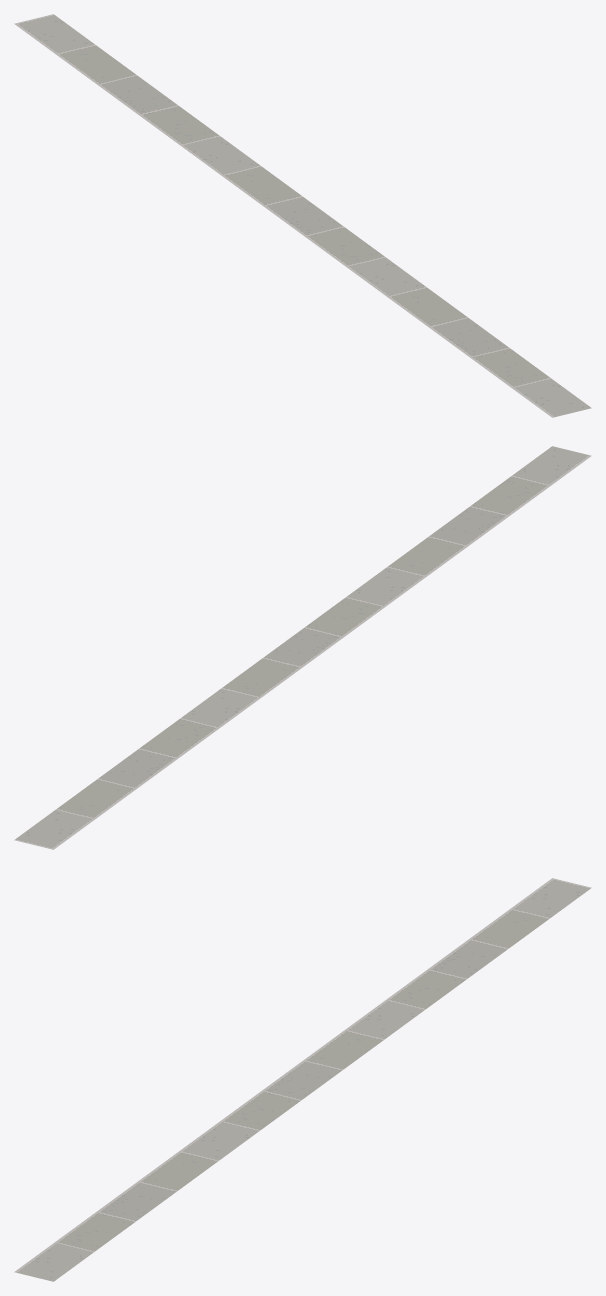
File: kd_stage_135c43_3_0_bounded_piece_0.glb
3 views of the same model, one above another, from view 1: azimuth 30°, elevation 25°; view 2: azimuth 150°, elevation 25°; view 3: azimuth 330°, elevation 25° (orthographic).
Visible parts, largest first — view 1: kd_stage_135c43_3_0_bounded_piece_0; view 2: kd_stage_135c43_3_0_bounded_piece_0; view 3: kd_stage_135c43_3_0_bounded_piece_0.
Part boxes in pixels (left/top/right/bottom): kd_stage_135c43_3_0_bounded_piece_0: left=14, top=14, right=591, bottom=417; kd_stage_135c43_3_0_bounded_piece_0: left=14, top=446, right=591, bottom=849; kd_stage_135c43_3_0_bounded_piece_0: left=14, top=878, right=591, bottom=1281.
Size of the model in its own units: 0.1767 by 1.79e-07 by 4.16.
1 material, 1 textured.
